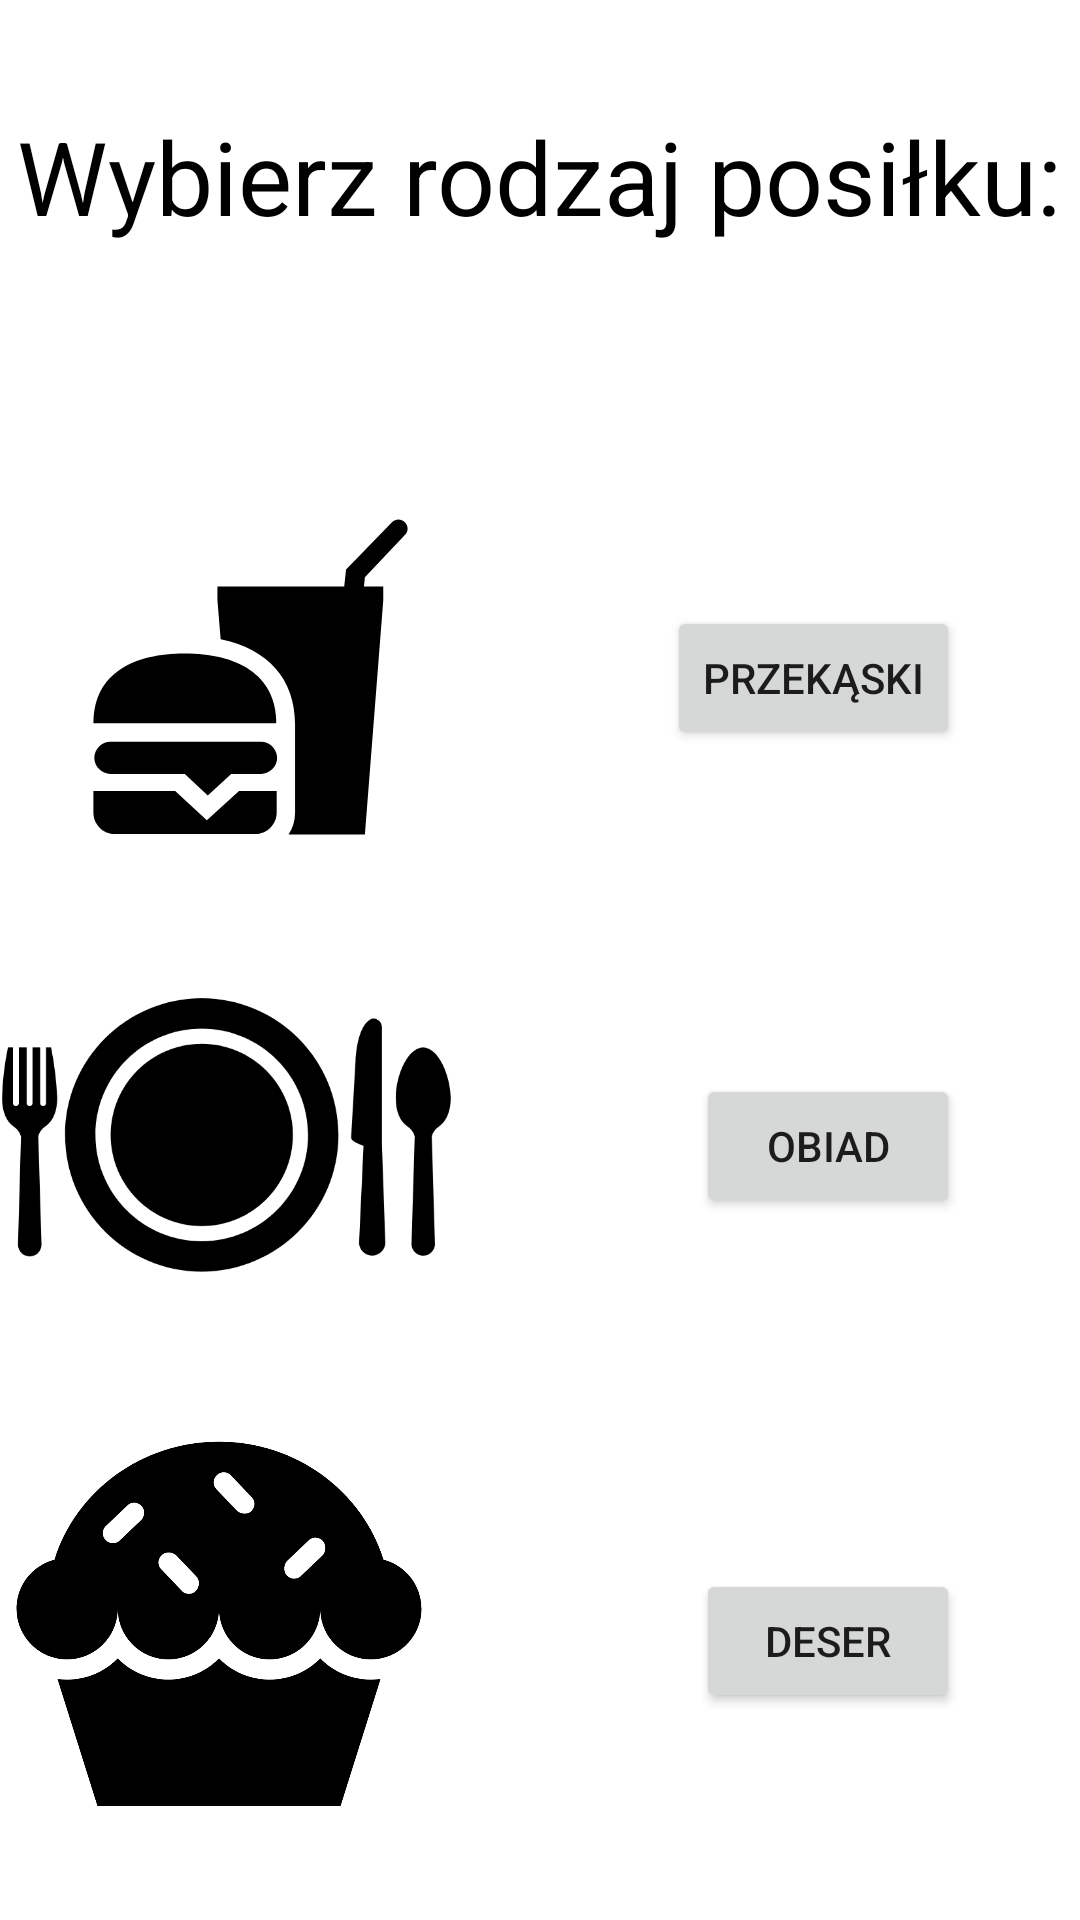

Where icons sit on this 1080 × 1920 app screen, as [x1,y1,x2,y2]:
przekaski: [93,519,408,835]
